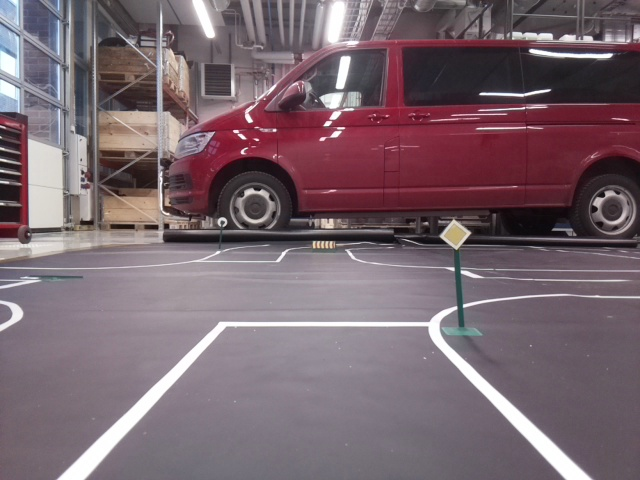Priority: (437, 219, 473, 249)
